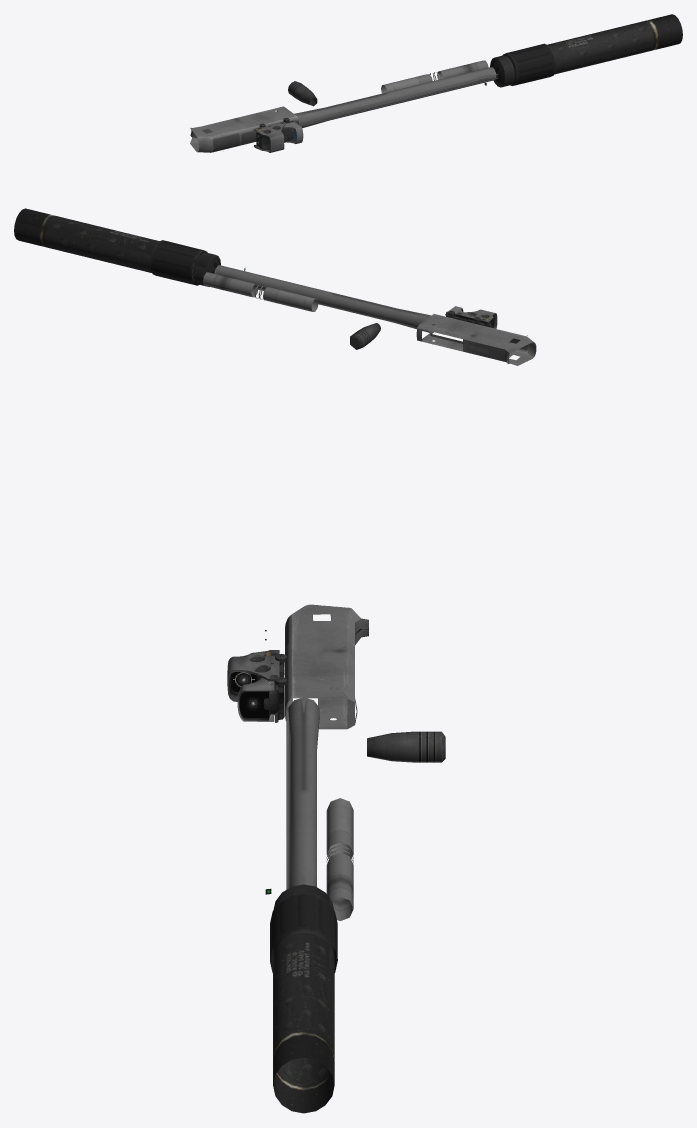
File: viewmodel_benelli_m4_red_urban_LOD0.obj
3 renders of one model, top to bottom at view 1: azimuth 30°, elevation 25°; view 2: azimuth 150°, elevation 25°; view 3: azimuth 270°, elevation 25°, orthographic. The views are drawn at different scales.
Visible parts, largest first — view 1: mtl_weapon_m1014_red_urban, mtl_weapon_suppressor_b, mtl_weapon_eotech_2_red_urban, mtl_weapon_kriss_foregrip, mtl_weapon_red_dot_sight_red_urban; view 2: mtl_weapon_m1014_red_urban, mtl_weapon_suppressor_b, mtl_weapon_kriss_foregrip, mtl_weapon_eotech_2_red_urban; view 3: mtl_weapon_m1014_red_urban, mtl_weapon_suppressor_b, mtl_weapon_kriss_foregrip, mtl_weapon_eotech_2_red_urban, mtl_weapon_red_dot_sight_red_urban.
Boxes of the visible parts, x1,y1,x2,y2 form: mtl_weapon_m1014_red_urban: (190,60,498,152); mtl_weapon_suppressor_b: (490,14,682,87); mtl_weapon_eotech_2_red_urban: (253,121,293,152); mtl_weapon_kriss_foregrip: (288,81,317,106); mtl_weapon_red_dot_sight_red_urban: (256,118,303,143); mtl_weapon_m1014_red_urban: (203,265,536,365); mtl_weapon_suppressor_b: (14,208,220,286); mtl_weapon_kriss_foregrip: (350,323,380,349); mtl_weapon_eotech_2_red_urban: (454,309,497,328); mtl_weapon_m1014_red_urban: (285,604,368,920); mtl_weapon_suppressor_b: (270,884,337,1113); mtl_weapon_kriss_foregrip: (367,731,445,762); mtl_weapon_eotech_2_red_urban: (227,650,284,715); mtl_weapon_red_dot_sight_red_urban: (237,654,287,722).
Size of the model in its own units: 145 by 9.98 by 24.41.
